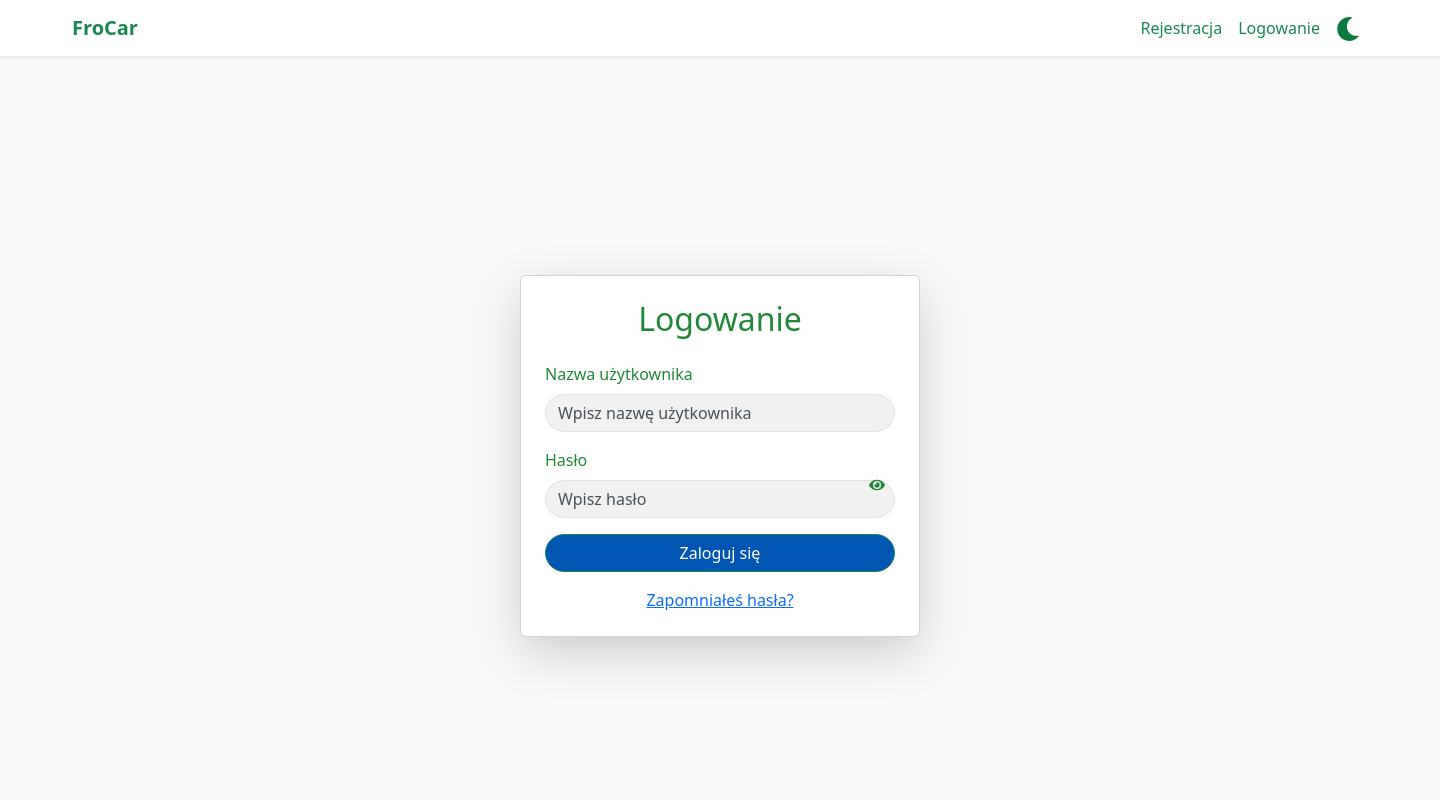
Test: LoginPage › powinien wyświetlać błąd przy niepoprawnych danych
In the field named "username": [720, 413] box x1=545 y1=394 x2=895 y2=432, type "invalidUser"
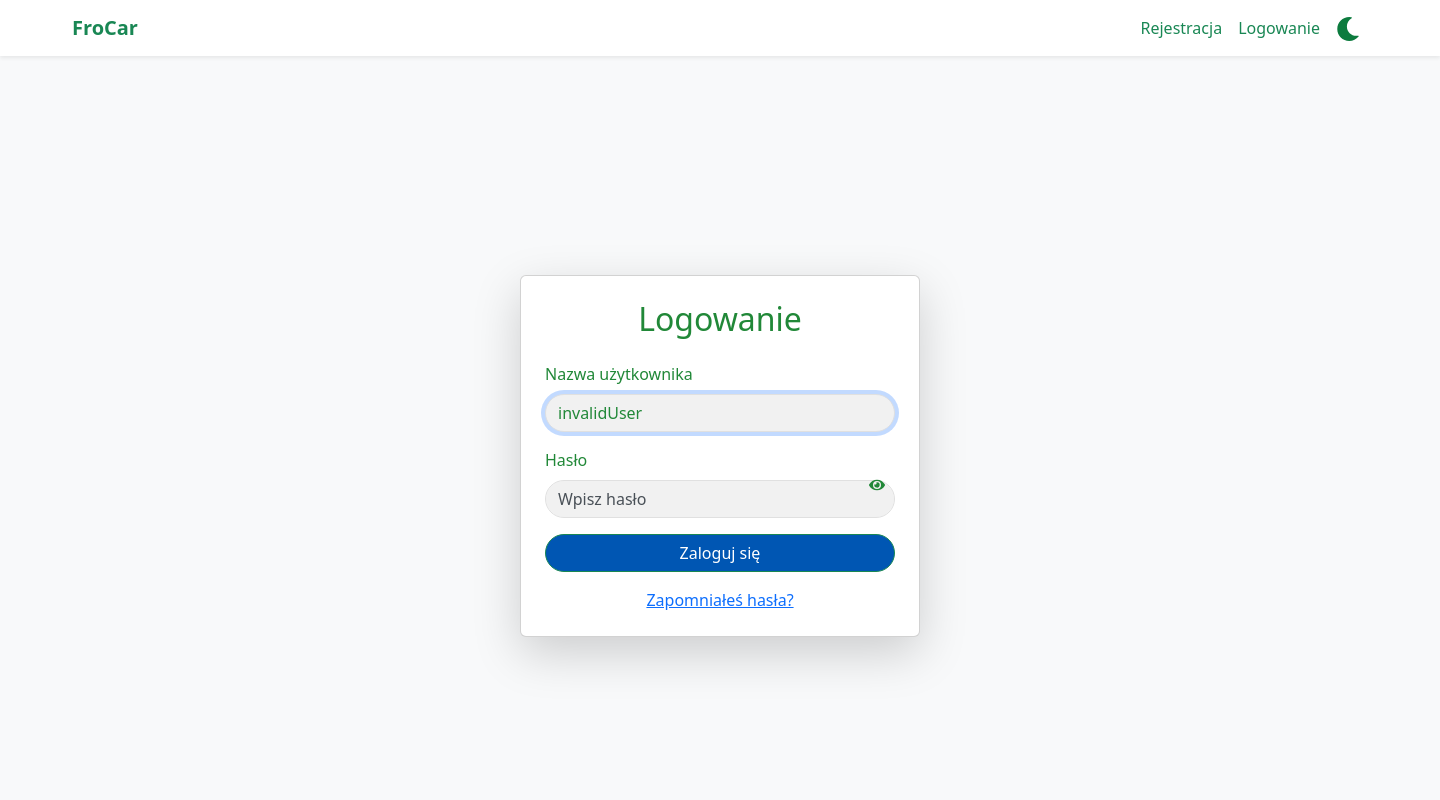
In the password field named "password": [720, 499] box x1=545 y1=480 x2=895 y2=518, type "wrongPass"
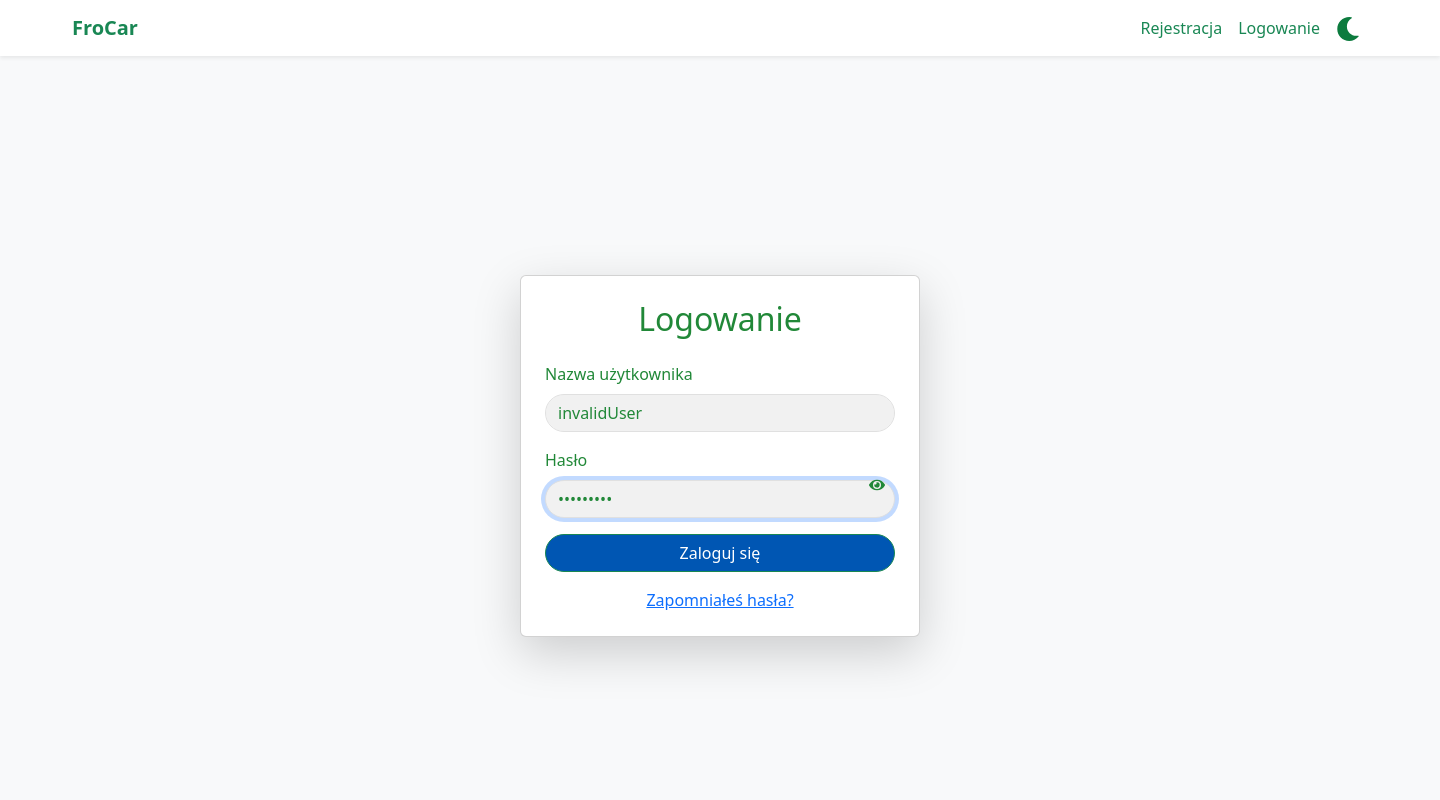
Click the submit button: [720, 553] box x1=545 y1=534 x2=895 y2=572
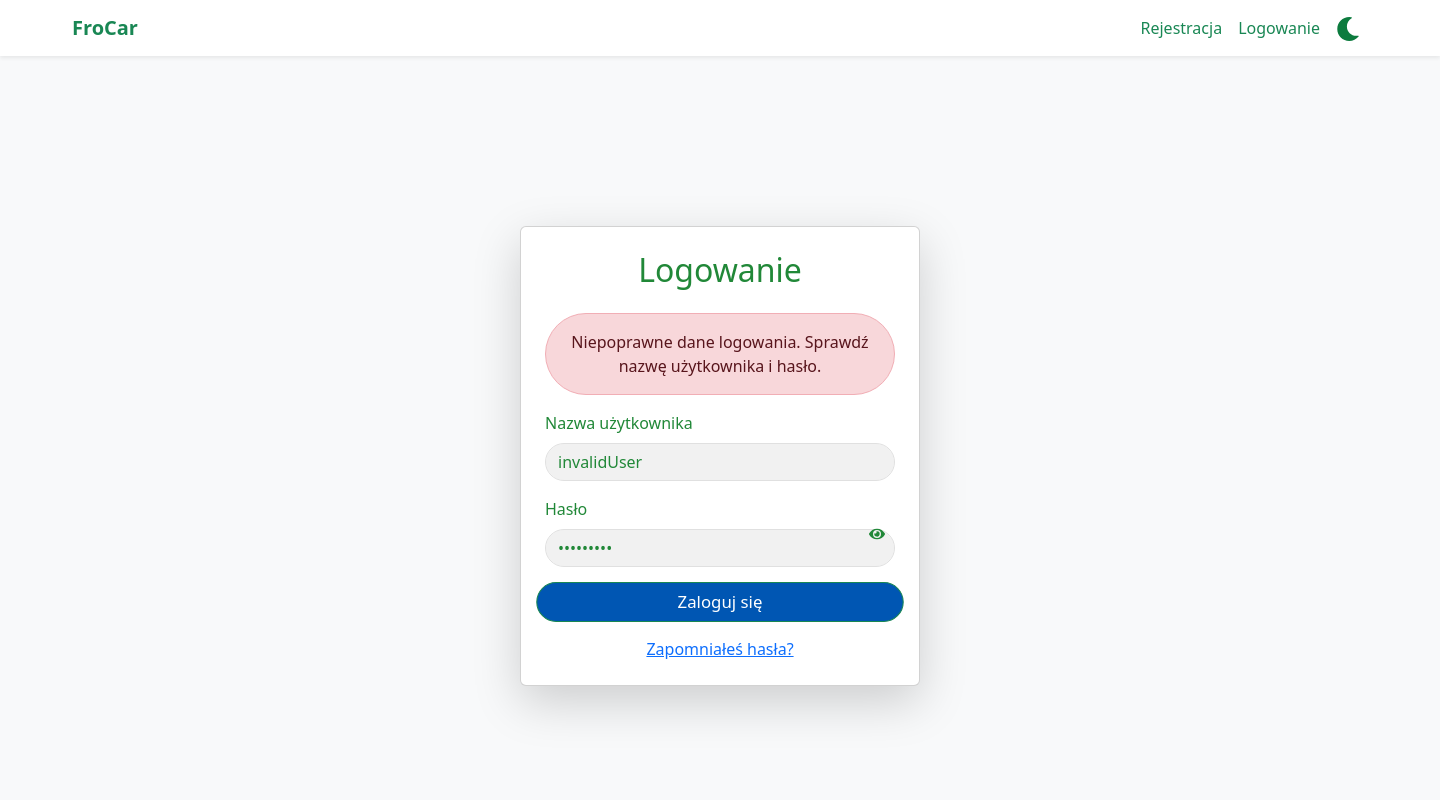
Expected: the text with class "alert" shows "Niepoprawne dane logowania", x1=571 y1=331 x2=868 y2=377
